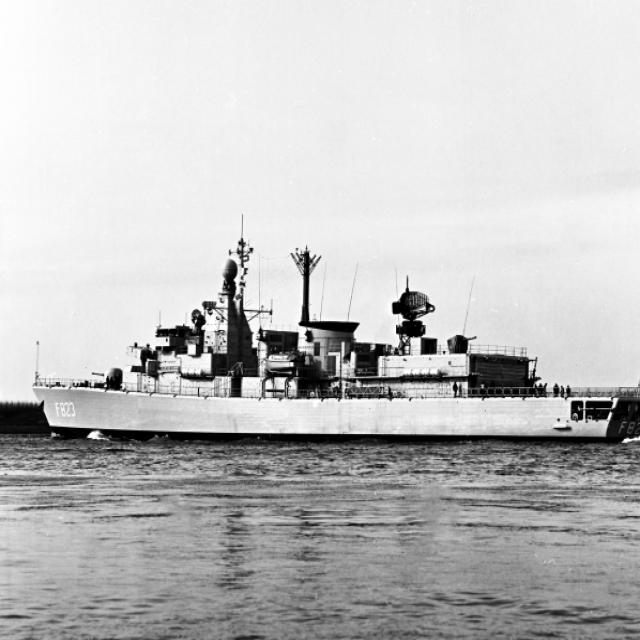Fragata: (26, 221, 640, 452)
